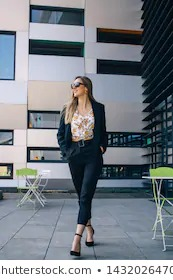S_W_pants: (63, 136, 102, 230)
